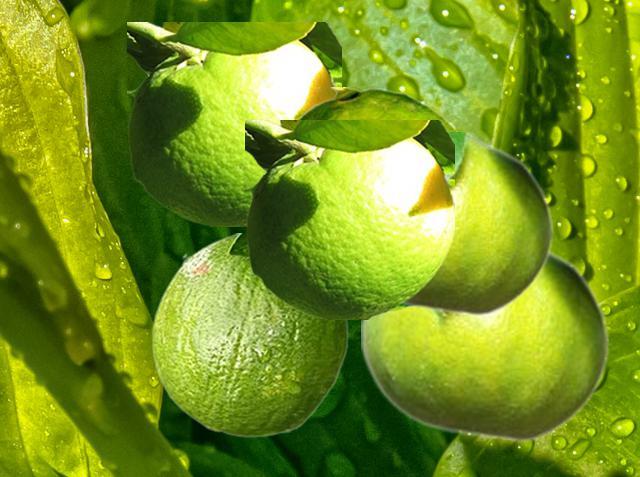dalandan: (361, 248, 609, 442), (127, 22, 340, 225), (245, 120, 453, 318), (151, 233, 350, 436), (294, 87, 459, 313), (400, 132, 553, 316)
